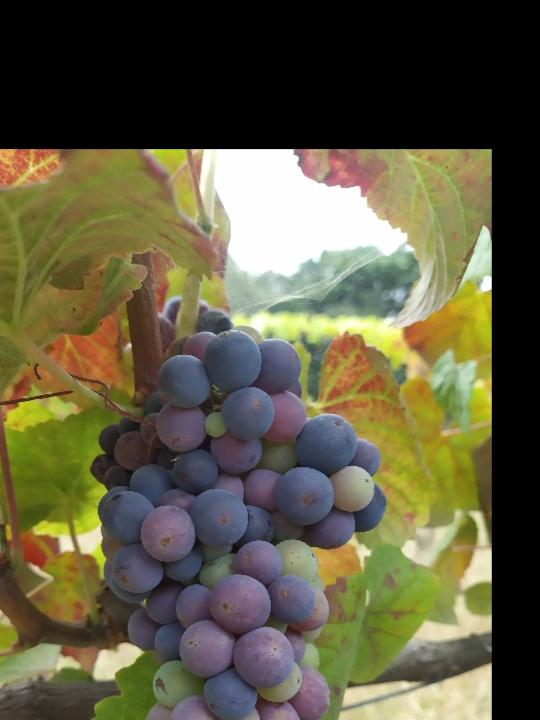grape: (87, 321, 390, 720)
